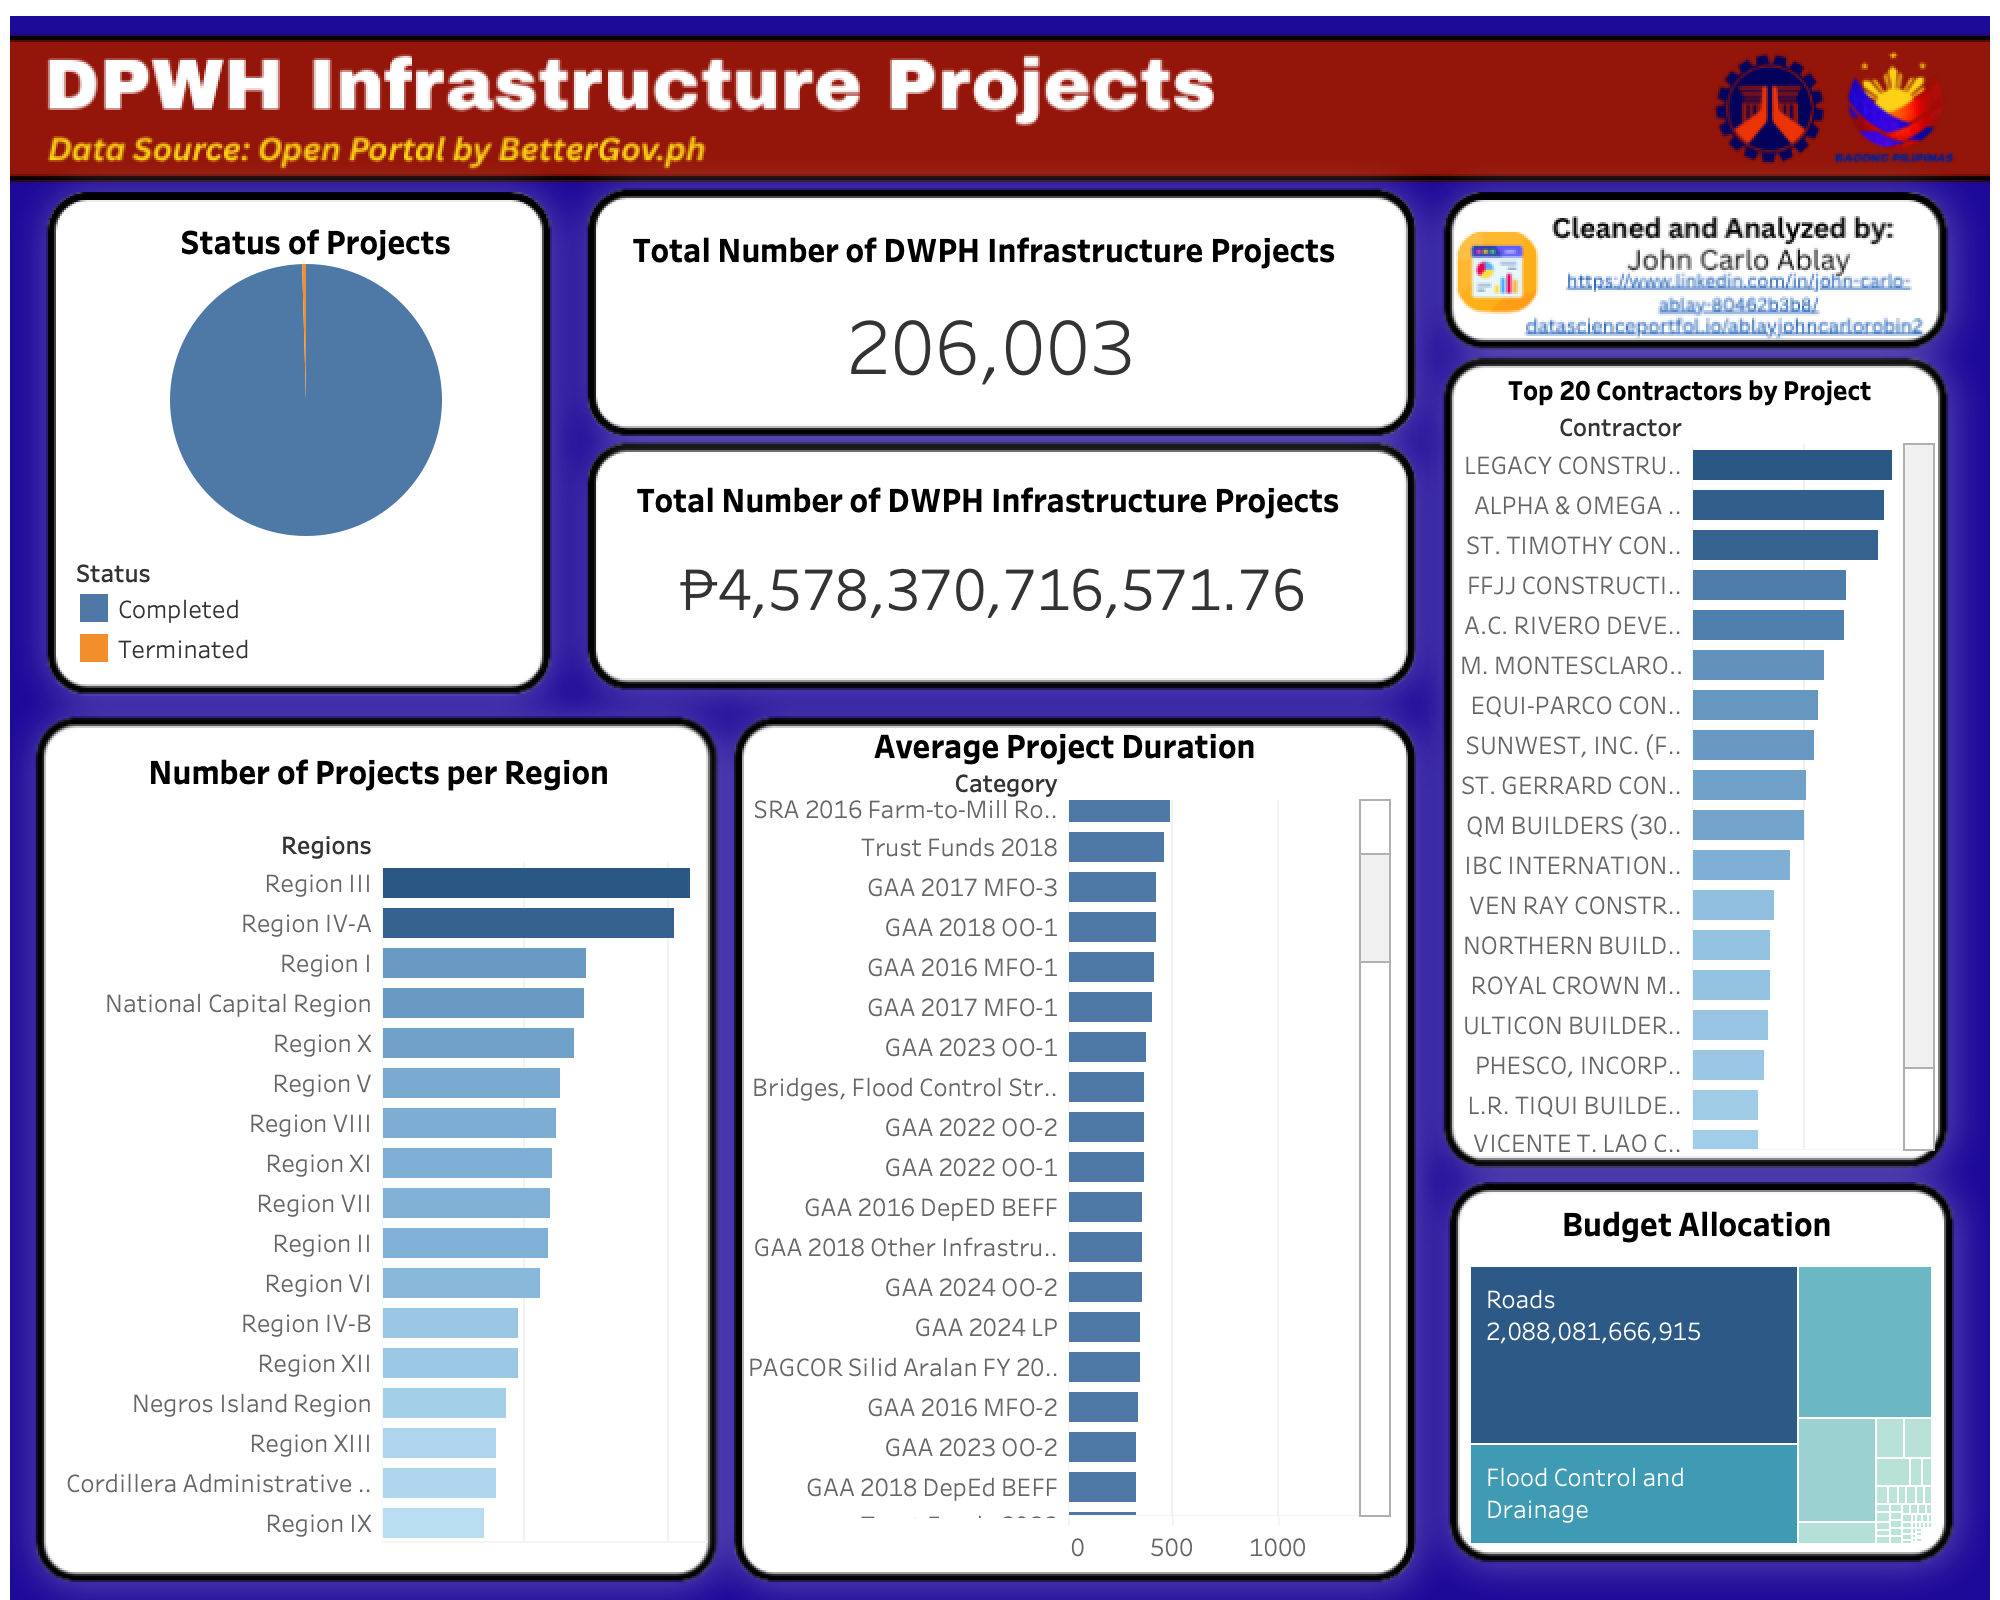

The page's visual inventory and layout, read from the dashboard file:
{"tool":"tableau","page":{"name":"Final","canvas":[1000,800],"ordinal":1},"visuals":[{"type":"worksheet","title":"Status","mark":"Pie","box":[17,64,301,279]},{"type":"text","box":[50,100,216,42]},{"type":"text","box":[303,104,378,42]},{"type":"worksheet","title":"KPI","mark":"Automatic","box":[372,140,231,66]},{"type":"text","box":[731,174,228,42]},{"type":"worksheet","title":"Top 10 Contractors","mark":"Bar","rows":["contractor"],"cols":["dpwh_projects_cleaned.csv_7C8593B023884DCFB8D819224CA03556"],"box":[730,202,238,373]},{"type":"text","box":[305,229,378,42]},{"type":"worksheet","title":"Budget","mark":"Automatic","box":[331,253,326,83]},{"type":"legend","title":"Status","param":"[federated.0pnac0f0owxdoi1asyol3122icwy].[none:status:nk]","box":[37,276,140,58]},{"type":"text","box":[406,352,253,42]},{"type":"text","box":[63,365,253,42]},{"type":"worksheet","title":"Avg Project Duration","mark":"Automatic","rows":["category"],"cols":["projectDuration_days"],"box":[374,380,322,408]},{"type":"worksheet","title":"Number of Projects by Region","mark":"Bar","rows":["Calculation_0092070369394688"],"cols":["dpwh_projects_cleaned.csv_7C8593B023884DCFB8D819224CA03556"],"box":[31,411,322,366]},{"type":"text","box":[749,591,199,42]},{"type":"worksheet","title":"Budget Allocation","mark":"Square","box":[731,629,239,151]}]}

Visuals, with their boxes in screenshot pixels (x1, y1, x2, y2), scaled from the page's 1000x800 canvas onto the 2000x1600 screenshot:
"Status" worksheet (Pie marks): 34:128:636:686
text: 100:200:532:284
text: 606:208:1362:292
"KPI" worksheet: 744:280:1206:412
text: 1462:348:1918:432
"Top 10 Contractors" worksheet (Bar marks): 1460:404:1936:1150
text: 610:458:1366:542
"Budget" worksheet: 662:506:1314:672
"Status" legend: 74:552:354:668
text: 812:704:1318:788
text: 126:730:632:814
"Avg Project Duration" worksheet: 748:760:1392:1576
"Number of Projects by Region" worksheet (Bar marks): 62:822:706:1554
text: 1498:1182:1896:1266
"Budget Allocation" worksheet (Square marks): 1462:1258:1940:1560
